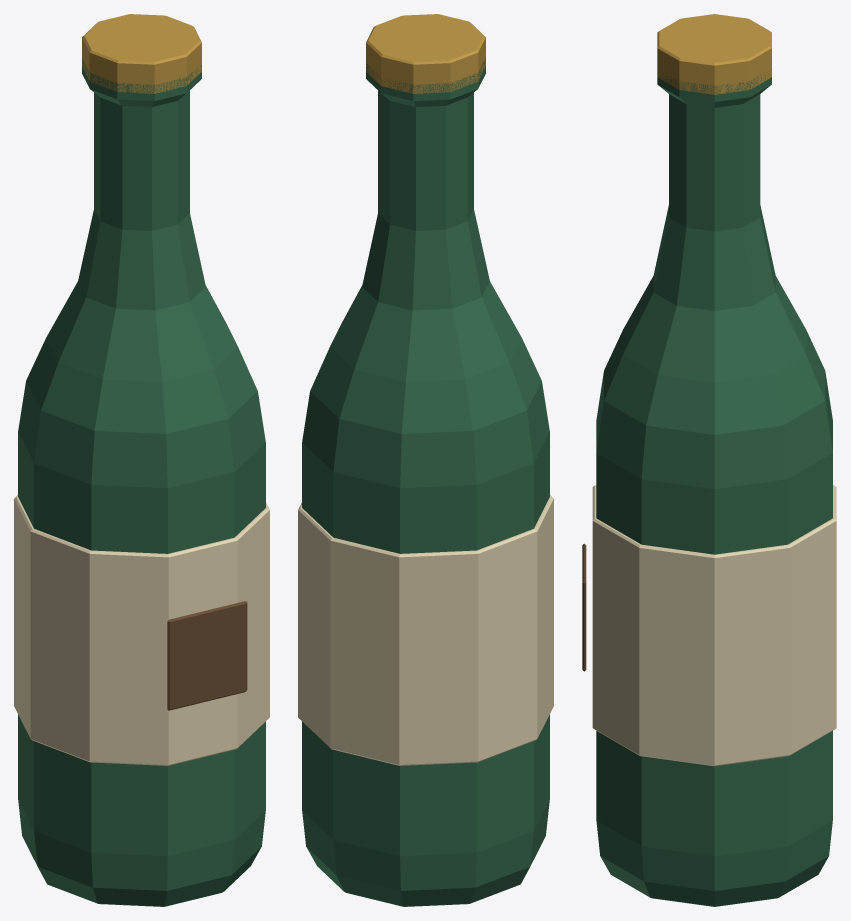
Rendered from b16_longneck_glass_bottle.glb.
The picture shows the model from 3 angles, left to right: view 1: azimuth 30°, elevation 25°; view 2: azimuth 150°, elevation 25°; view 3: azimuth 270°, elevation 25°; orthographic projection.
Visible parts, largest first — view 1: b16_longneck_glass_bottle; view 2: b16_longneck_glass_bottle; view 3: b16_longneck_glass_bottle.
Boxes of the visible parts, bbox=[...] form: b16_longneck_glass_bottle: bbox=[14, 14, 269, 906]; b16_longneck_glass_bottle: bbox=[298, 14, 553, 906]; b16_longneck_glass_bottle: bbox=[582, 14, 836, 906].
Bounding box in the file's own units: 0.064 × 0.2265 × 0.0634.
